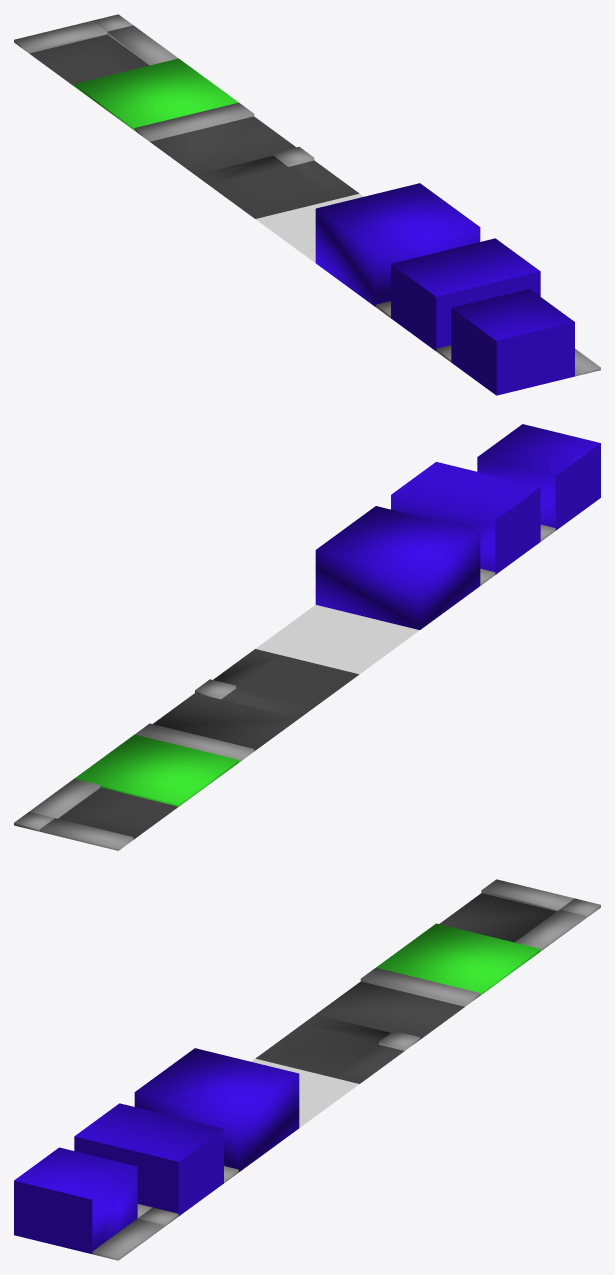
Rendered from Models 1.fbx.
3 renders of one model, top to bottom at view 1: azimuth 30°, elevation 25°; view 2: azimuth 150°, elevation 25°; view 3: azimuth 330°, elevation 25°, orthographic.
Visible parts, largest first — view 1: BuildingCenter, BuildingCorner, BuildingStraight, Straight, InnerCurve, Grass, OuterCurve, Flat; view 2: BuildingCenter, BuildingStraight, BuildingCorner, Grass, InnerCurve, OuterCurve, Flat, Straight; view 3: BuildingCorner, BuildingCenter, BuildingStraight, Straight, Grass, OuterCurve, InnerCurve, Flat.
Boxes of the visible parts, x1,y1,x2,y2 form: BuildingCenter: (315,183,480,306); BuildingCorner: (436,289,600,395); BuildingStraight: (376,238,540,351); Straight: (134,102,296,174); InnerCurve: (14,14,178,86); Grass: (74,58,238,130); OuterCurve: (195,146,359,218); Flat: (255,193,363,262); BuildingCenter: (315,506,480,629); BuildingStraight: (391,462,540,585); BuildingCorner: (477,424,600,541); Grass: (74,734,238,806); InnerCurve: (14,778,178,850); OuterCurve: (195,649,359,718); Flat: (255,604,419,674); Straight: (135,693,298,762); BuildingCorner: (14,1147,178,1260); BuildingCenter: (134,1048,299,1171); BuildingStraight: (74,1103,238,1216); Straight: (316,967,480,1039); Grass: (376,923,540,995); OuterCurve: (255,1014,419,1083); InnerCurve: (439,879,600,951); Flat: (251,1058,359,1127).
Size of the model in its own units: 400 by 200 by 3200.
